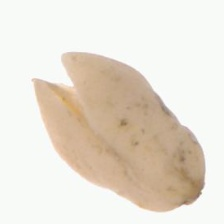L1: (30, 51, 84, 111), (177, 182, 204, 209)
L2: (33, 52, 206, 213)
